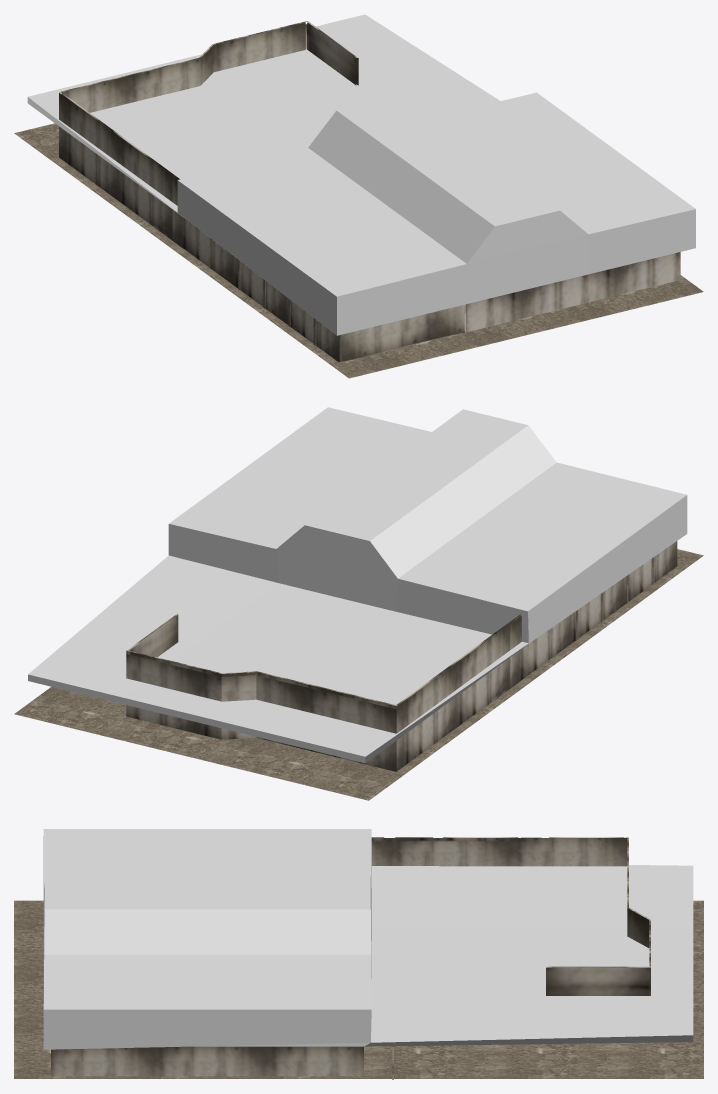
Rendered from FixedWiezienie.fbx.
3 renders of one model, top to bottom at view 1: azimuth 30°, elevation 25°; view 2: azimuth 150°, elevation 25°; view 3: azimuth 270°, elevation 25°, orthographic. The views are drawn at different scales.
Parts seen in each view (by area): view 1: Plane.001, Cube.006, Plane; view 2: Plane.001, Cube.006, Plane; view 3: Plane.001, Cube.006, Plane.
Part boxes in pixels (bbox=[...]): Plane.001: bbox=[27, 14, 695, 335]; Cube.006: bbox=[59, 21, 680, 362]; Plane: bbox=[14, 123, 703, 378]; Plane.001: bbox=[28, 407, 687, 763]; Cube.006: bbox=[126, 541, 677, 771]; Plane: bbox=[14, 549, 703, 800]; Plane.001: bbox=[43, 829, 693, 1049]; Cube.006: bbox=[51, 837, 650, 1079]; Plane: bbox=[14, 900, 703, 1078].
Bounding box in the file's own units: 3480 × 964 × 5580.
